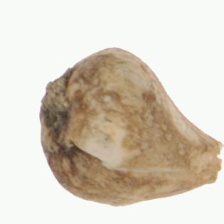L1: (38, 76, 68, 139), (208, 136, 223, 185)
L2: (39, 47, 222, 207)
